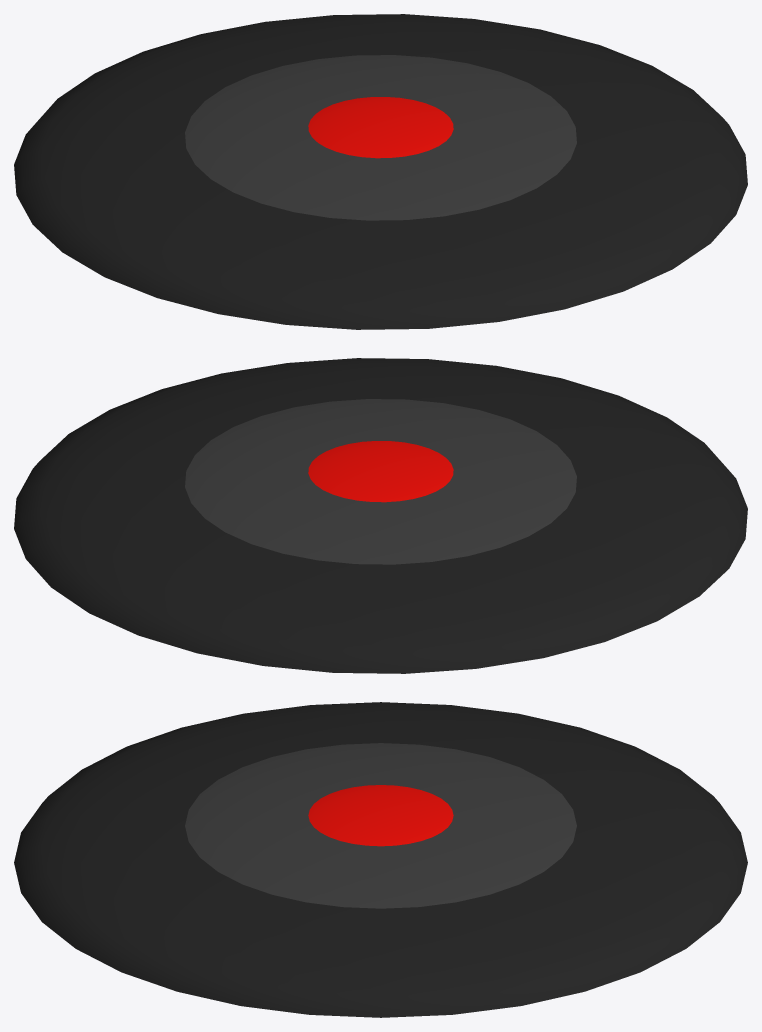
The model's file is landmine.fbx.
3 renders of one model, top to bottom at view 1: azimuth 30°, elevation 25°; view 2: azimuth 150°, elevation 25°; view 3: azimuth 270°, elevation 25°, orthographic.
Parts seen in each view (by area): view 1: landmine; view 2: landmine; view 3: landmine.
Part boxes in pixels (x1,y1,x2,y2): landmine: (14, 14, 747, 329); landmine: (14, 358, 747, 673); landmine: (14, 702, 747, 1017).
Size of the model in its own units: 89.69 by 6.94 by 89.69.
